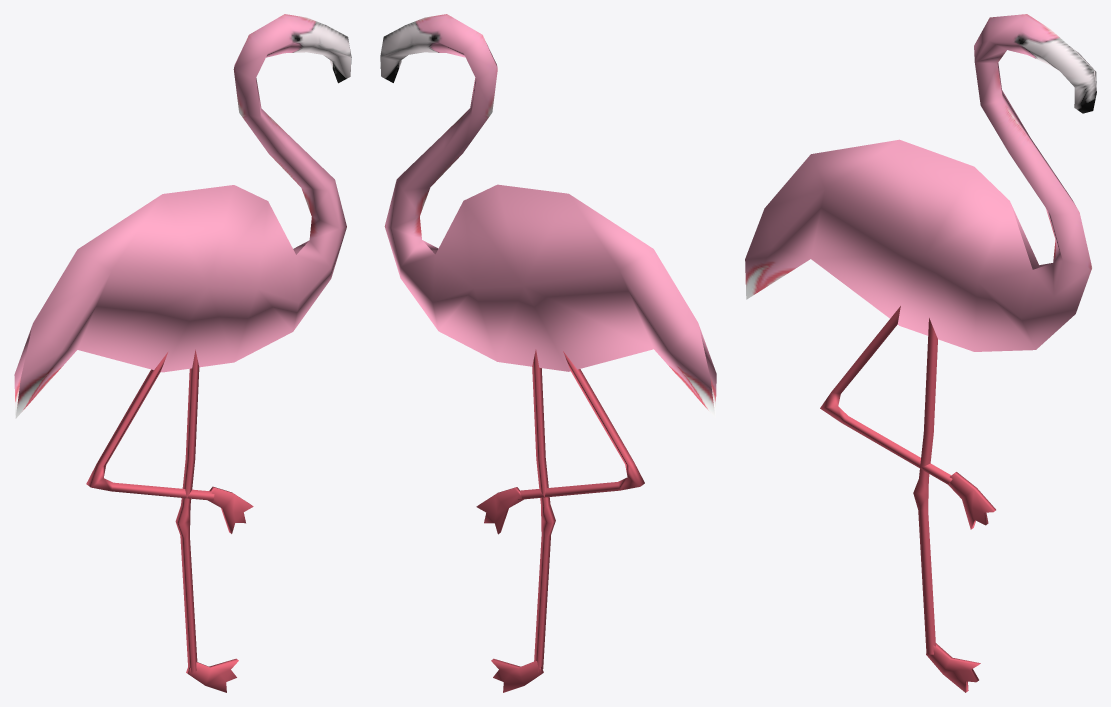
The model's file is Flamingo.fbx.
3 renders of one model, left to right at view 1: azimuth 30°, elevation 25°; view 2: azimuth 150°, elevation 25°; view 3: azimuth 330°, elevation 25°, orthographic. The views are drawn at different scales.
Visible parts, largest first — view 1: pCylinder5; view 2: pCylinder5; view 3: pCylinder5.
Part boxes in pixels (bbox=[...]): pCylinder5: bbox=[14, 14, 351, 692]; pCylinder5: bbox=[380, 14, 716, 692]; pCylinder5: bbox=[745, 14, 1096, 692].
Size of the model in its own units: 52.45 by 99.11 by 5.56.
